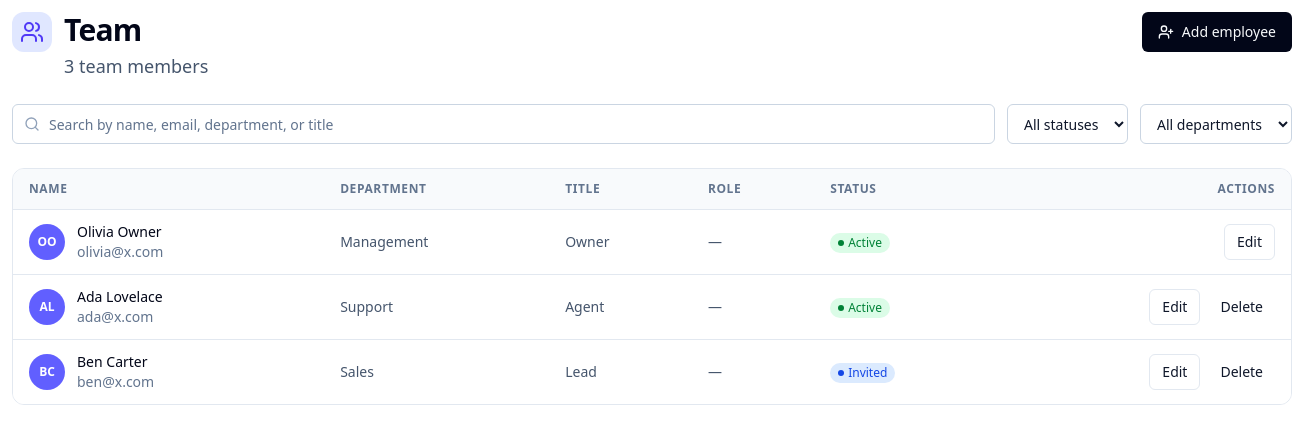
TeamPage › filters by status and department
Check: the button "Ada Lovelace" is shown, box [77,287,163,307]
Select "Invited" in the dropdown named "Filter by status" at (1068, 124), box [1007,104,1128,144]
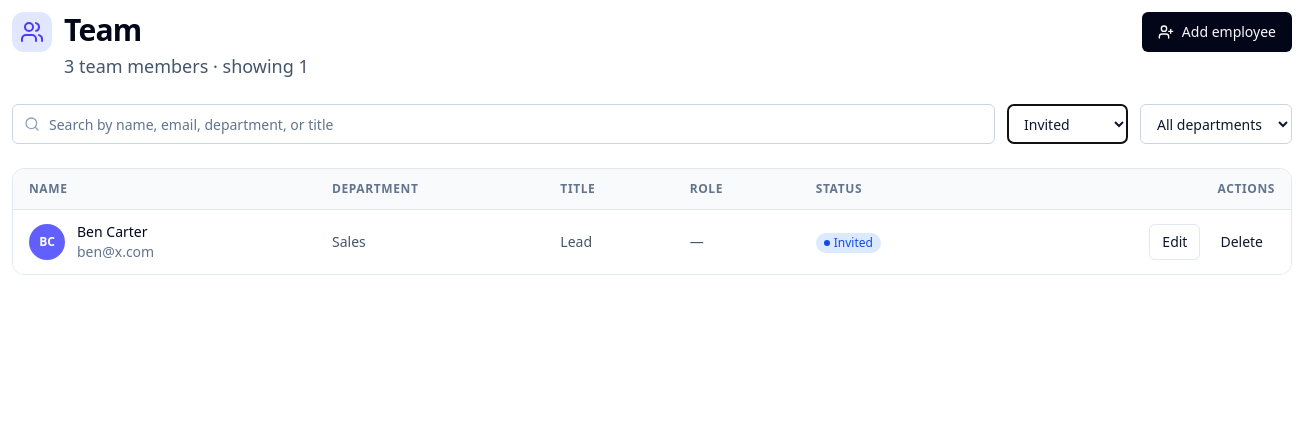
Check: the button "Ben Carter" is shown, box [77,222,148,242]
Check: the button "Ada Lovelace" is gone
Select "All statuses" in the dropdown named "Filter by status" at (1068, 124), box [1007,104,1128,144]
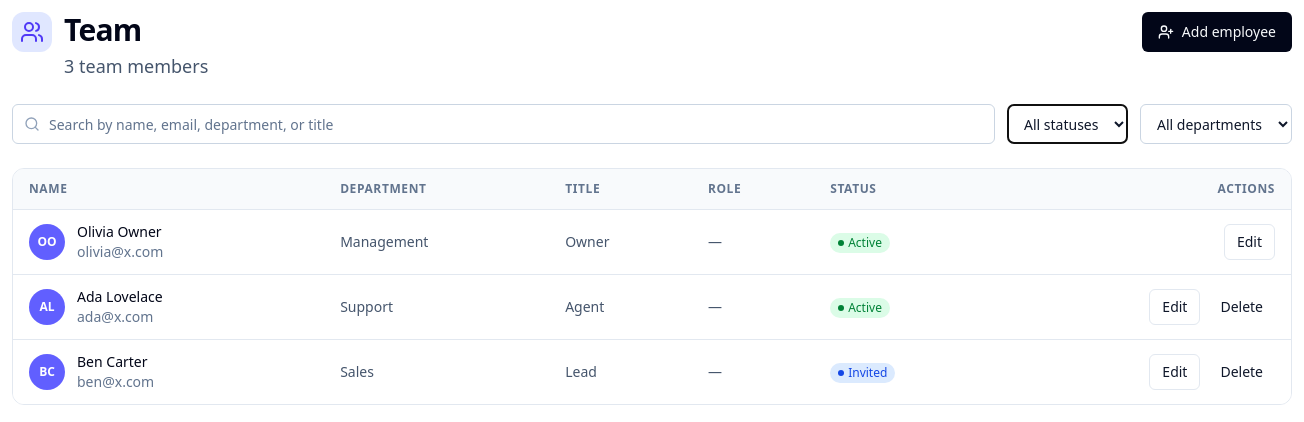
Select "Support" in the dropdown named "Filter by department" at (1216, 124), box [1140,104,1292,144]
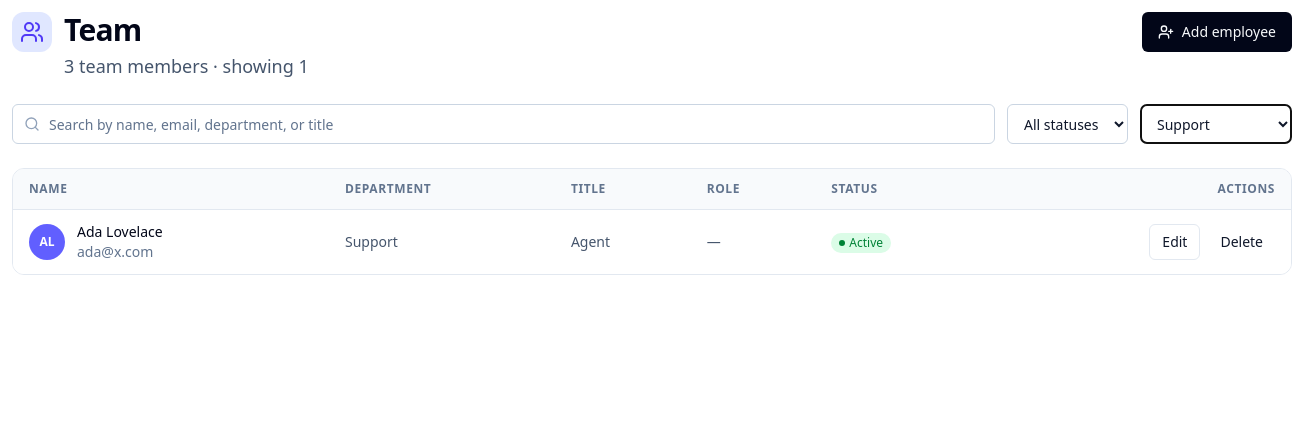
Check: the button "Ada Lovelace" is shown, box [77,222,163,242]
Check: the button "Ben Carter" is gone
